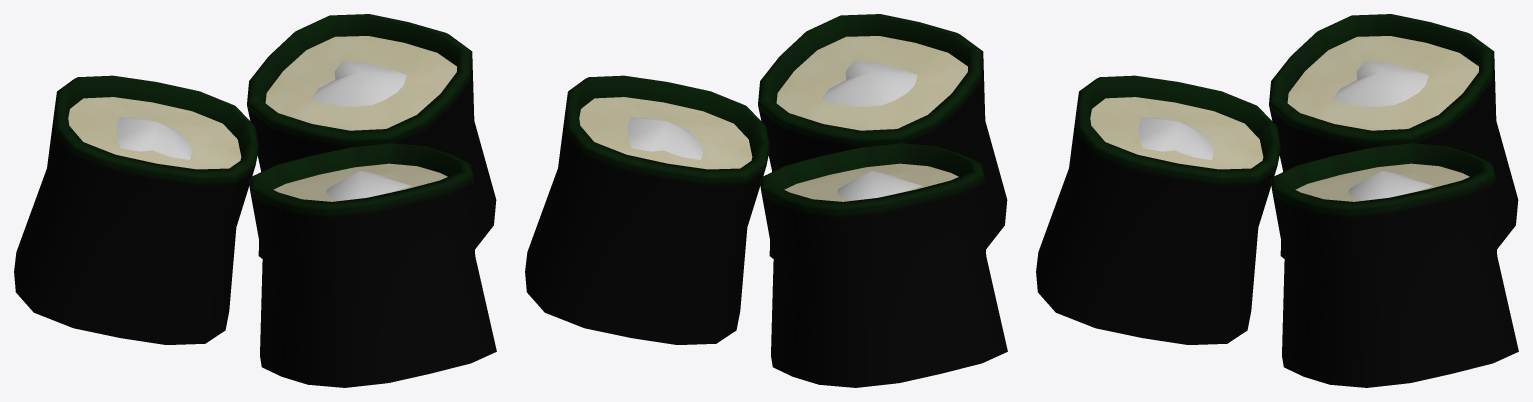
The model's file is Fish_Sushi.fbx.
3 views of the same model, side by side, from view 1: azimuth 30°, elevation 25°; view 2: azimuth 150°, elevation 25°; view 3: azimuth 270°, elevation 25° (orthographic).
Parts seen in each view (by area): view 1: m_recipe_sushi_01; view 2: m_recipe_sushi_01; view 3: m_recipe_sushi_01.
Boxes of the visible parts, x1,y1,x2,y2 form: m_recipe_sushi_01: (14,14,496,387); m_recipe_sushi_01: (525,14,1007,387); m_recipe_sushi_01: (1036,14,1518,387).
Size of the model in its own units: 71.84 by 30.18 by 64.99.
